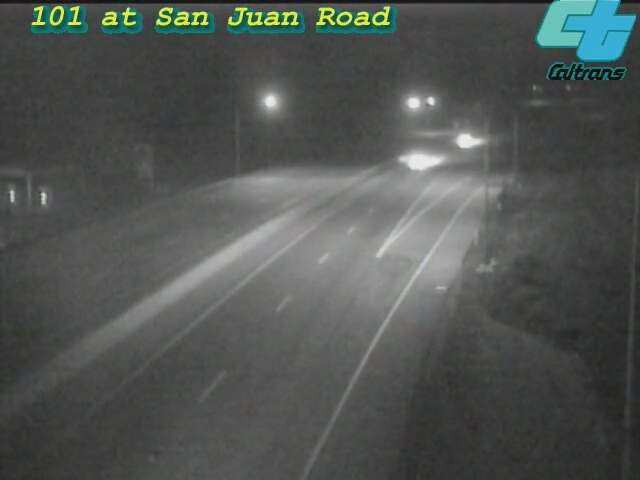vehicle: (437, 116, 487, 166), (398, 135, 448, 185)
